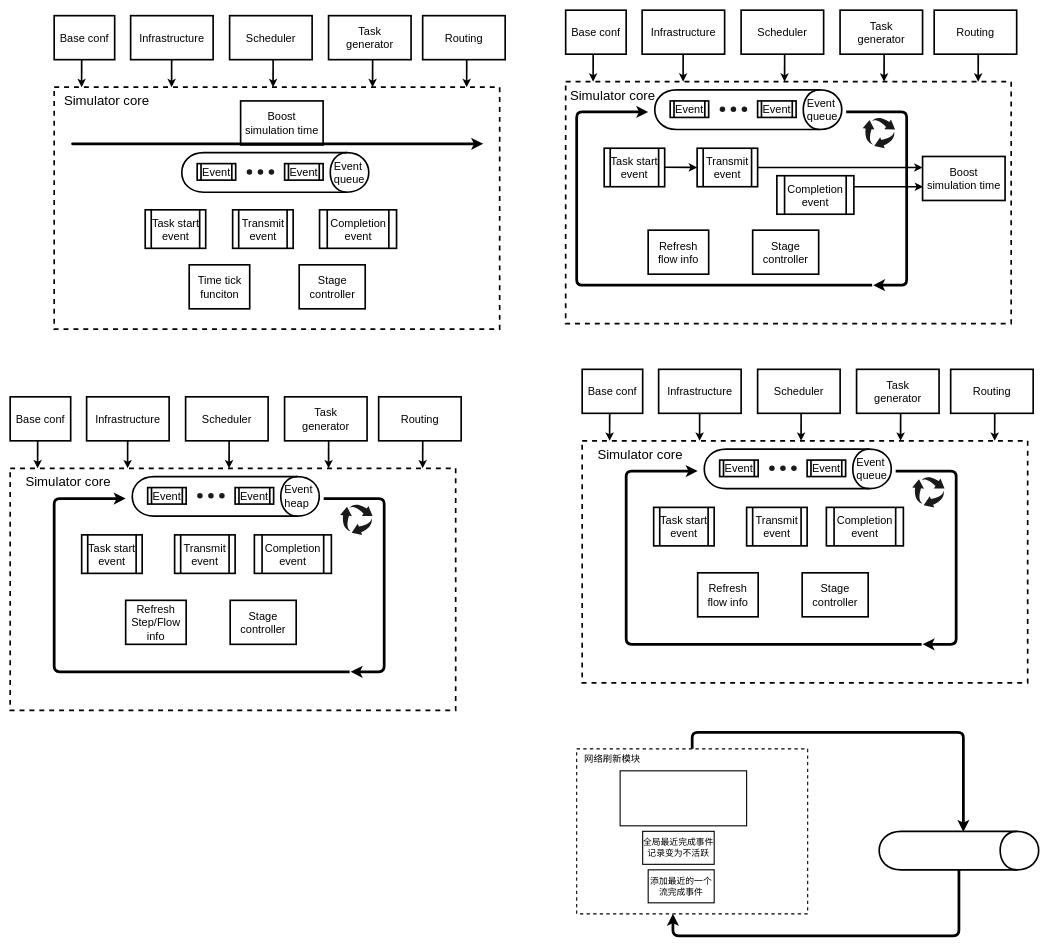
Some shapes in this 1049 by 951 pixel diagram are drawn without their labels. Each missing label, with the centre of its shape:
遇到不活跃事件，跳过。: point (958, 850)
遍历全局记录的所有流，检查是否计算过完成时间标记量，是则跳过；否则计算期望完成时间。: point (683, 798)
